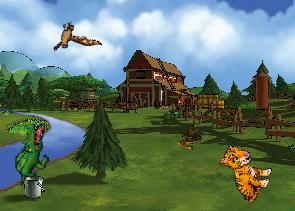crocodile: (9, 121, 53, 185)
eagle: (45, 12, 102, 64)
tiger: (209, 141, 278, 206)
